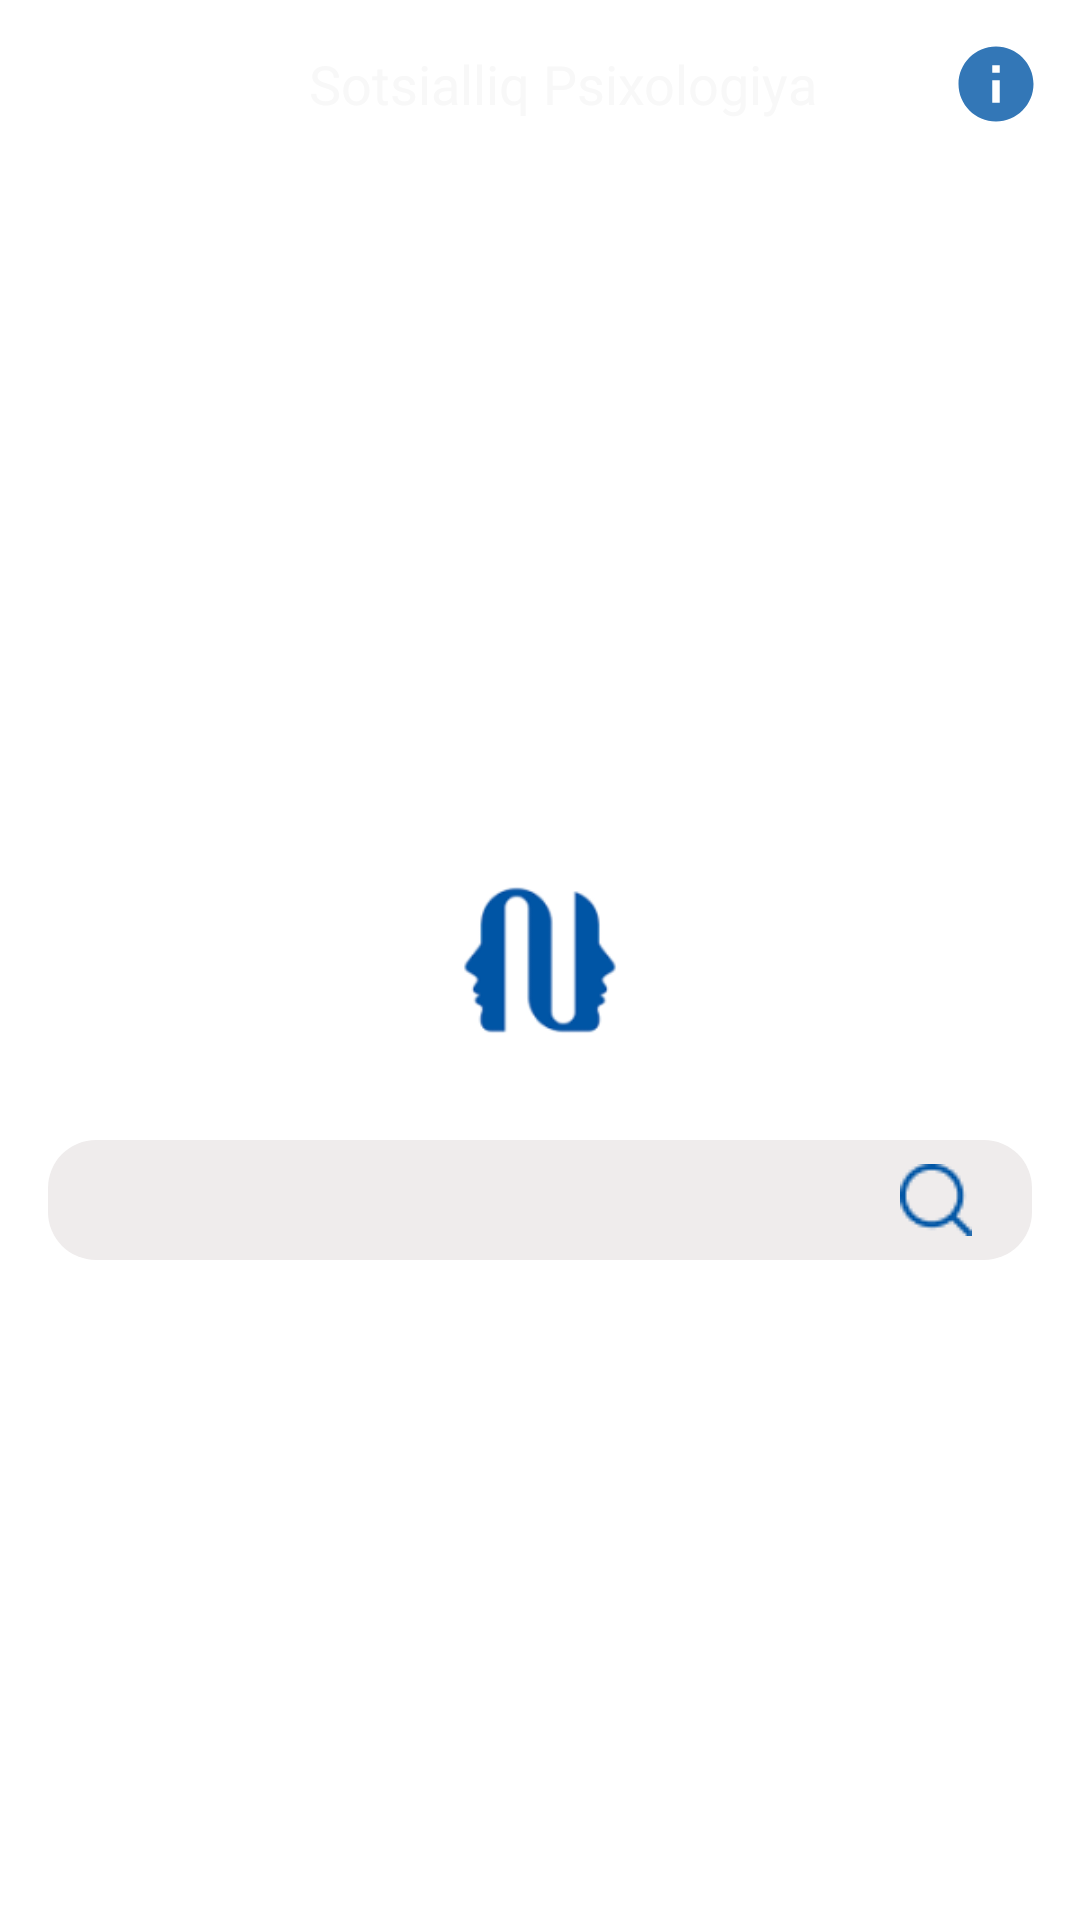

Point at icon controls on the screen. Image size 1080×1920, points as point (x, y).
info: point (996, 84)
search: point (936, 1200)
